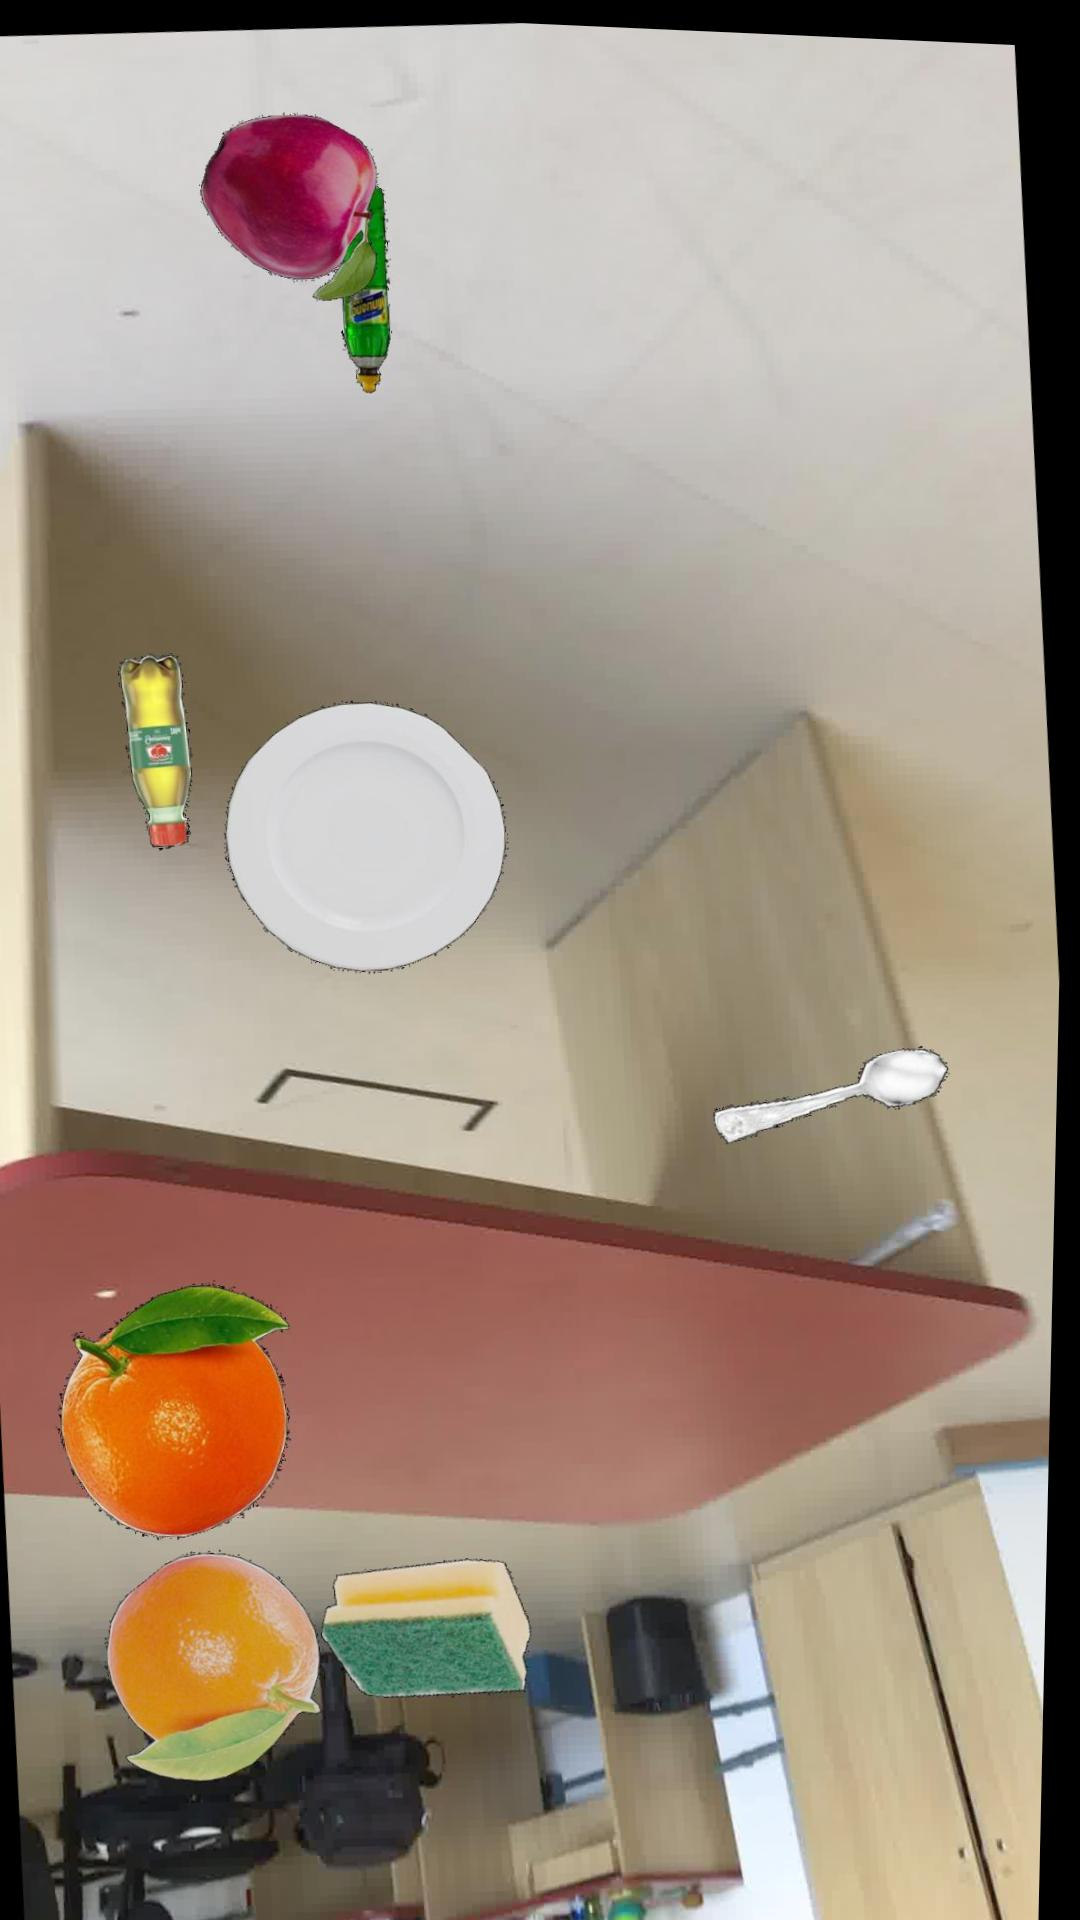apple: (202, 112, 378, 298)
cleaner: (343, 183, 392, 390)
guarana: (123, 654, 196, 848)
orange: (65, 1282, 297, 1538), (115, 1551, 330, 1780)
plate: (228, 698, 510, 969)
sponge: (328, 1555, 538, 1695)
spoon: (719, 1040, 953, 1137)
